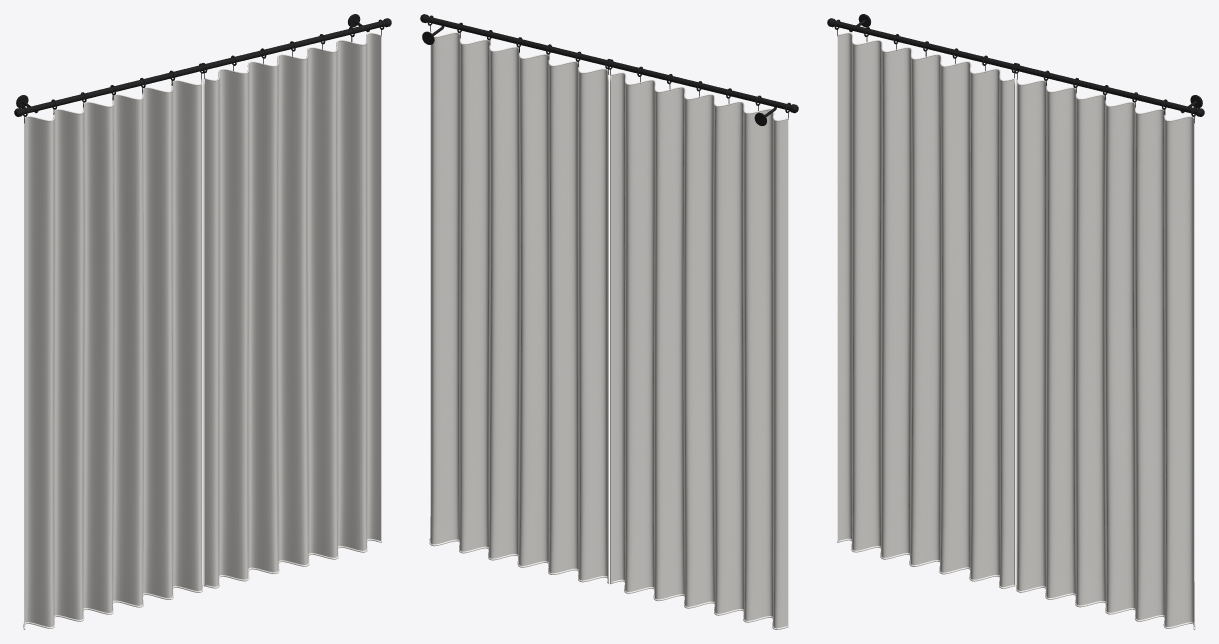
File: cortina_onda_180_c100.glb
3 views of the same model, side by side, from view 1: azimuth 30°, elevation 25°; view 2: azimuth 150°, elevation 25°; view 3: azimuth 330°, elevation 25° (orthographic).
Visible parts, largest first — view 1: cortina_onda_180_c100; view 2: cortina_onda_180_c100; view 3: cortina_onda_180_c100.
Part boxes in pixels (x1,y1,x2,y2): cortina_onda_180_c100: (14,14,391,629); cortina_onda_180_c100: (420,14,798,629); cortina_onda_180_c100: (827,14,1204,629).
Size of the model in its own units: 1.8 by 2.39 by 0.1792.
Materials: 2 (1 with a texture image).
